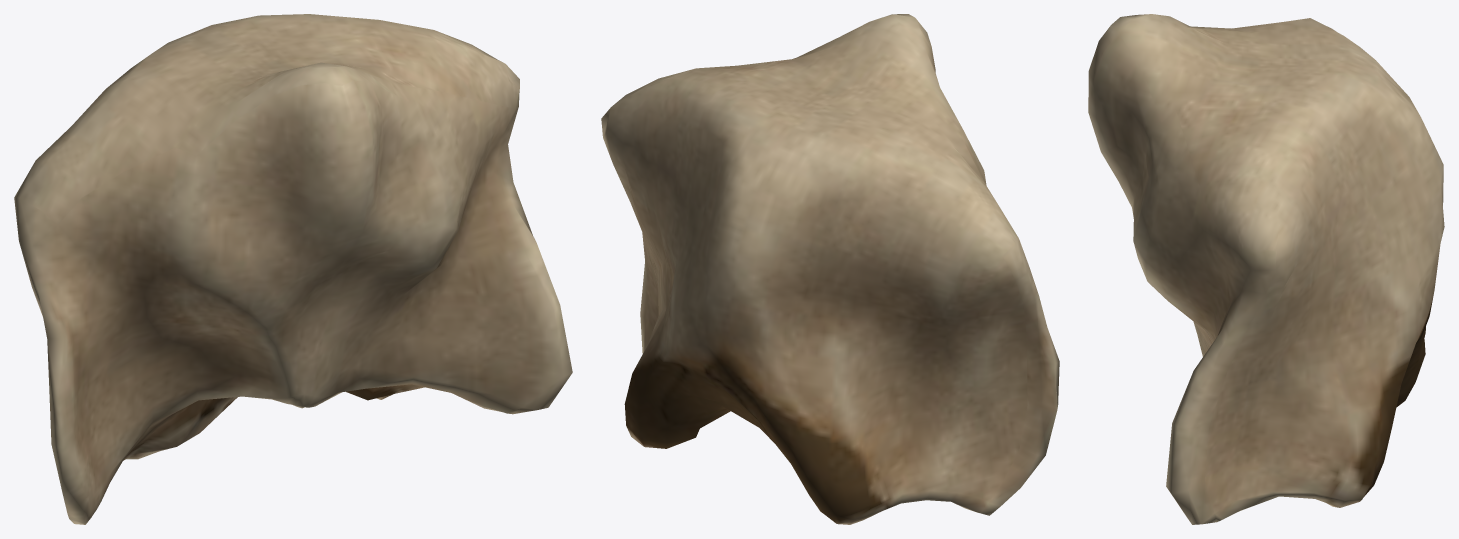
Rendered from Cervical_Vertebrae.glb.
3 views of the same model, side by side, from view 1: azimuth 30°, elevation 25°; view 2: azimuth 150°, elevation 25°; view 3: azimuth 270°, elevation 25° (orthographic). The views are drawn at different scales.
Parts seen in each view (by area): view 1: Horse_low:SelSet_44Merged_L_Frt_Sesamoid_Bones_1; view 2: Horse_low:SelSet_44Merged_L_Frt_Sesamoid_Bones_1; view 3: Horse_low:SelSet_44Merged_L_Frt_Sesamoid_Bones_1.
Part boxes in pixels (x1=…): Horse_low:SelSet_44Merged_L_Frt_Sesamoid_Bones_1: x1=14, y1=14, x2=572, y2=524; Horse_low:SelSet_44Merged_L_Frt_Sesamoid_Bones_1: x1=601, y1=14, x2=1059, y2=524; Horse_low:SelSet_44Merged_L_Frt_Sesamoid_Bones_1: x1=1088, y1=14, x2=1444, y2=524.
Size of the model in its own units: 0.1459 by 0.1318 by 0.098.
1 material, 1 textured.
